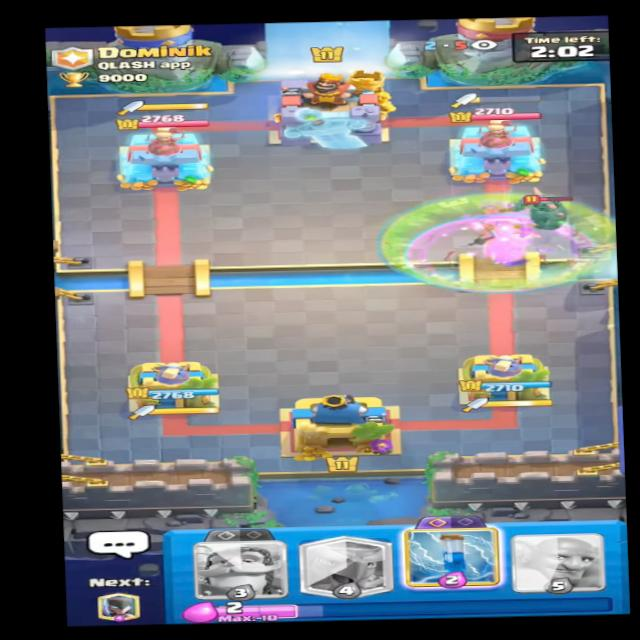pekka: (493, 187, 576, 235)
